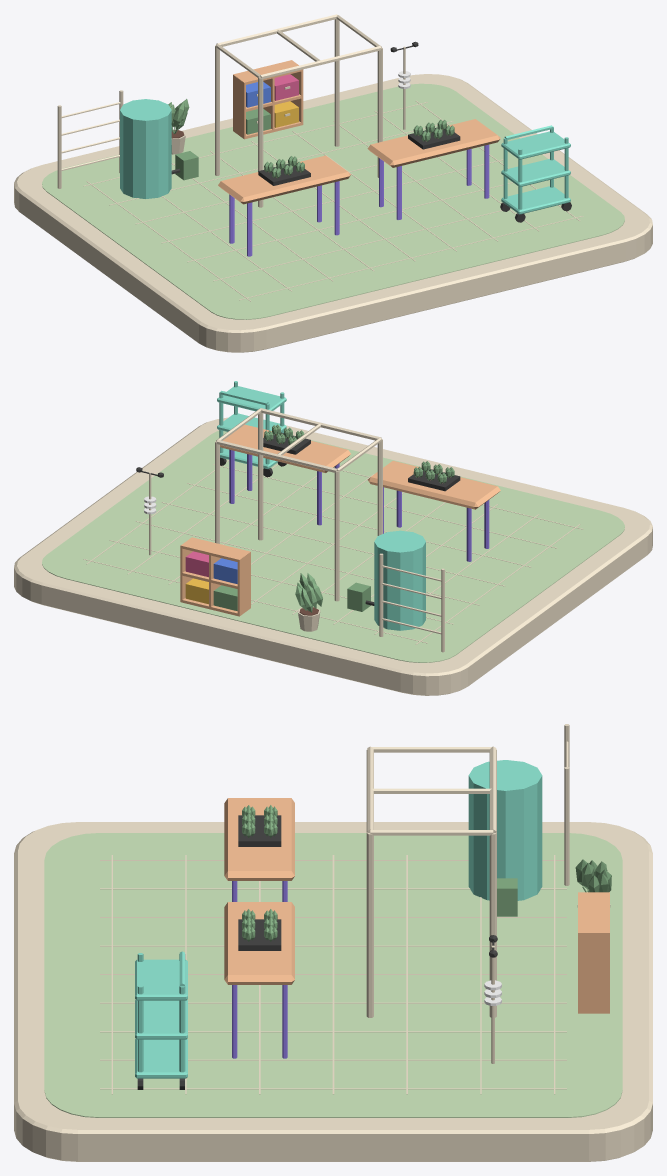
3 renders of one model, top to bottom at view 1: azimuth 30°, elevation 25°; view 2: azimuth 150°, elevation 25°; view 3: azimuth 270°, elevation 25°, orthographic. The views are drawn at different scales.
Parts seen in each view (by area): view 1: COM-02 Floor Surface, COM-01 Rounded Base Direct, Water tank, Rounded table top.001, Rounded table top, Tray.004, Tray.002, Tray.003, Pot, Cubbies divider, Post.003, Roof rail (+10 smaller); view 2: COM-02 Floor Surface, COM-01 Rounded Base Direct, Water tank, Rounded table top, Rounded table top.001, Pot, Tray.004, Cubbies shelf.002, Cubbies divider, Post.001, Post.002, Roof rail.001 (+10 smaller); view 3: COM-02 Floor Surface, COM-01 Rounded Base Direct, Water tank, Rounded table top, Rounded table top.001, Cubbies divider.002, Tray.004, Tray.002, Tray.003, Post.002, Cubbies shelf.002, Post.003 (+15 smaller).
Part boxes in pixels (x1,y1,x2,y2): COM-02 Floor Surface: (42,83,624,319); COM-01 Rounded Base Direct: (14,74,652,352); Water tank: (120,99,171,198); Rounded table top.001: (367,119,500,167); Rounded table top: (218,155,351,204); Tray.004: (501,131,570,159); Tray.002: (501,186,570,214); Tray.003: (501,159,570,186); Pot: (168,99,189,154); Cubbies divider: (233,75,245,138); Post.003: (334,19,339,146); Roof rail: (260,46,381,79); COM-02 Floor Surface: (42,430,624,662); COM-01 Rounded Base Direct: (14,417,652,695); Water tank: (374,530,425,630); Rounded table top: (367,460,500,509); Rounded table top.001: (220,424,350,472); Pot: (295,573,322,631); Tray.004: (217,386,286,411); Cubbies shelf.002: (181,537,250,562); Cubbies divider: (237,552,250,616); Post.001: (334,471,339,601); Post.002: (258,412,263,540); Roof rail.001: (216,439,337,472); COM-02 Floor Surface: (44,833,622,1117); COM-01 Rounded Base Direct: (14,822,652,1161); Water tank: (468,760,542,900); Rounded table top: (224,798,294,880); Rounded table top.001: (224,902,294,984); Cubbies divider.002: (578,933,609,1013); Tray.004: (135,959,187,1000); Tray.002: (135,1039,187,1078); Tray.003: (135,1000,187,1039); Post.002: (366,832,373,1017); Cubbies shelf.002: (578,892,609,933); Post.003: (489,832,496,1017).
Size of the model in its own units: 6 by 1.98 by 5.2.
Materials: 1 (1 with a texture image).
